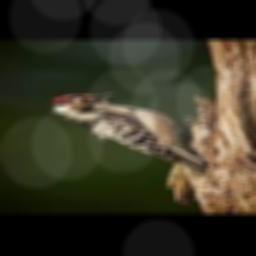Woodpecker: (48, 92, 205, 173)
